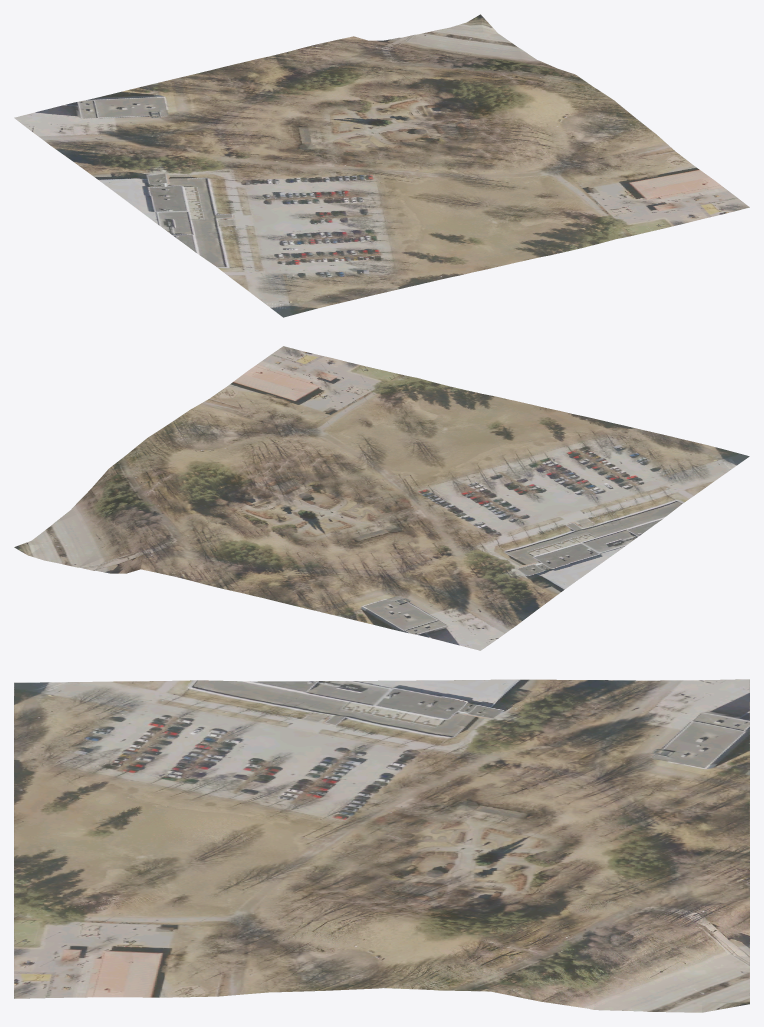
File: CM_Terrain_24489639_6821022.fbx
The picture shows the model from 3 angles, top to bottom: view 1: azimuth 30°, elevation 25°; view 2: azimuth 150°, elevation 25°; view 3: azimuth 270°, elevation 25°; orthographic projection. The views are drawn at different scales.
Parts seen in each view (by area): view 1: CM_Terrain_24489639_6821022_LOD0; view 2: CM_Terrain_24489639_6821022_LOD0; view 3: CM_Terrain_24489639_6821022_LOD0.
Part boxes in pixels (x1,y1,x2,y2): CM_Terrain_24489639_6821022_LOD0: [14, 14, 749, 317]; CM_Terrain_24489639_6821022_LOD0: [14, 346, 749, 650]; CM_Terrain_24489639_6821022_LOD0: [14, 679, 749, 1012].
Size of what is drawn, in the model's own units: 205 by 9.64 by 205.
